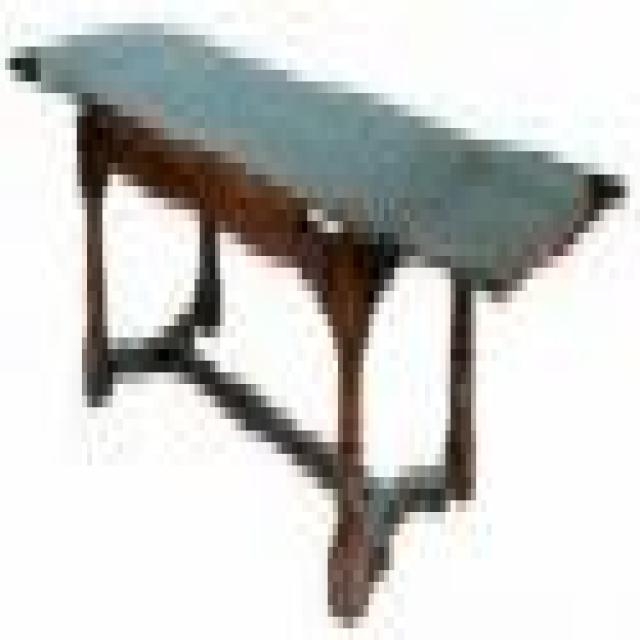table: (3, 22, 627, 638)
